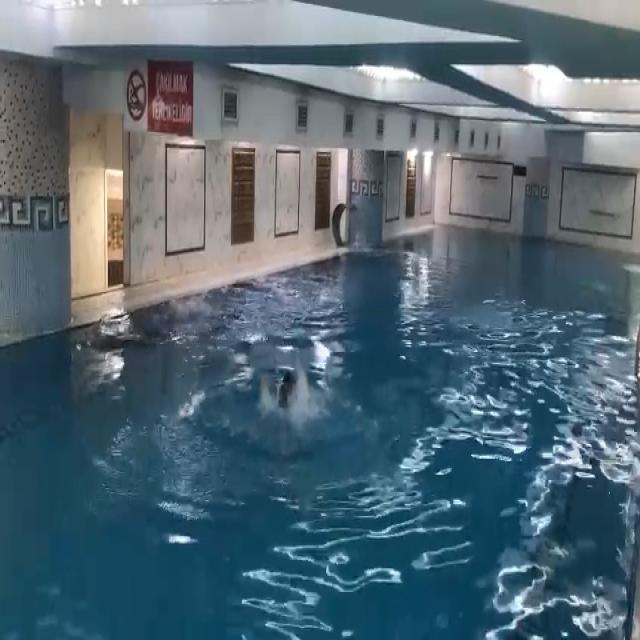Drowning: (259, 363, 321, 417)
